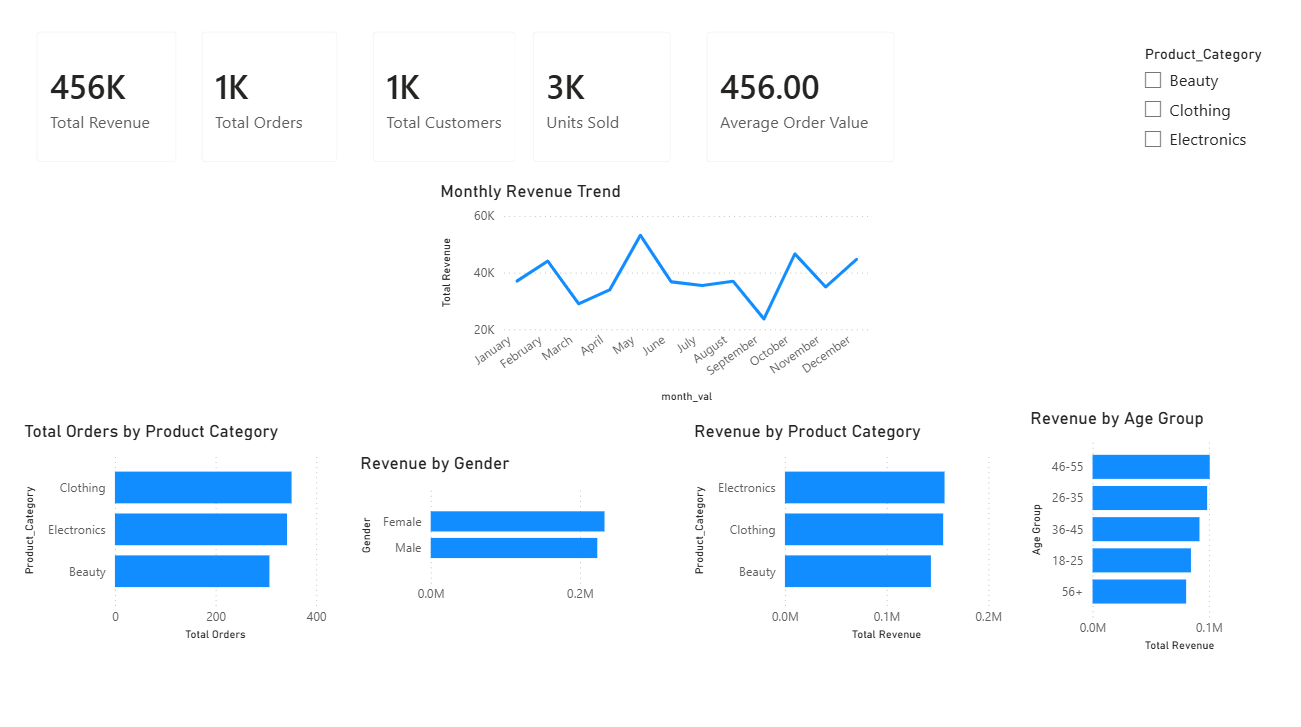

What the dashboard file says about the page in this screenshot:
{"tool":"powerbi","page":{"name":"Page 1","canvas":[1280,720],"ordinal":0},"visuals":[{"type":"cardVisual","fields":{"Data":["retail_sales_data.Total Revenue"]},"box":[20.8,20.8,171.2,162.6],"z":0},{"type":"cardVisual","fields":{"Data":["retail_sales_data.Total Orders"]},"box":[182.2,20.8,167.5,162.6],"z":1000},{"type":"cardVisual","fields":{"Data":["retail_sales_data.Average Order Value"]},"box":[676.2,20.8,218.9,162.6],"z":2000},{"type":"clusteredBarChart","title":"Revenue by Product Category","fields":{"Y":["retail_sales_data.Total Revenue"],"Category":["retail_sales_data.Product_Category"]},"box":[676.2,418.2,311.8,220.1],"z":3000},{"type":"clusteredBarChart","title":"Total Orders by Product Category","fields":{"Category":["retail_sales_data.Product_Category"],"Y":["retail_sales_data.Total Orders"]},"box":[20.8,418.2,305.7,220.1],"z":4000},{"type":"slicer","fields":{"Values":["retail_sales_data.Product_Category"]},"box":[1109.1,46.5,151.6,128.4],"z":5000},{"type":"cardVisual","fields":{"Data":["retail_sales_data.Total Customers"]},"box":[349.7,20.8,174.9,162.6],"z":6000},{"type":"cardVisual","fields":{"Data":["retail_sales_data.Units Sold"]},"box":[506.3,20.8,170,162.6],"z":7000},{"type":"clusteredBarChart","title":"Revenue by Gender","fields":{"Category":["retail_sales_data.Gender"],"Y":["retail_sales_data.Total Revenue"]},"box":[349.7,450,311.8,156.5],"z":8000},{"type":"clusteredBarChart","title":"Revenue by Age Group","fields":{"Category":["retail_sales_data.Age Group"],"Y":["retail_sales_data.Total Revenue"]},"box":[1005.2,406,255.6,243.3],"z":9000},{"type":"lineChart","title":"Monthly Revenue Trend","fields":{"Category":["retail_sales_data.month_val"],"Y":["retail_sales_data.Total Revenue"]},"box":[428,183.4,429.2,222.6],"z":10000}]}

Visuals, with their boxes in screenshot pixels (x1, y1, x2, y2), scaled from the page's 1280x720 canvas onto the 1301x727 screenshot:
cardVisual - retail_sales_data.Total Revenue: [x1=21, y1=21, x2=195, y2=185]
cardVisual - retail_sales_data.Total Orders: [x1=185, y1=21, x2=355, y2=185]
cardVisual - retail_sales_data.Average Order Value: [x1=687, y1=21, x2=910, y2=185]
"Revenue by Product Category" clusteredBarChart: [x1=687, y1=422, x2=1004, y2=645]
"Total Orders by Product Category" clusteredBarChart: [x1=21, y1=422, x2=332, y2=645]
slicer - retail_sales_data.Product_Category: [x1=1127, y1=47, x2=1281, y2=177]
cardVisual - retail_sales_data.Total Customers: [x1=355, y1=21, x2=533, y2=185]
cardVisual - retail_sales_data.Units Sold: [x1=515, y1=21, x2=687, y2=185]
"Revenue by Gender" clusteredBarChart: [x1=355, y1=454, x2=672, y2=612]
"Revenue by Age Group" clusteredBarChart: [x1=1022, y1=410, x2=1281, y2=656]
"Monthly Revenue Trend" lineChart: [x1=435, y1=185, x2=871, y2=410]
